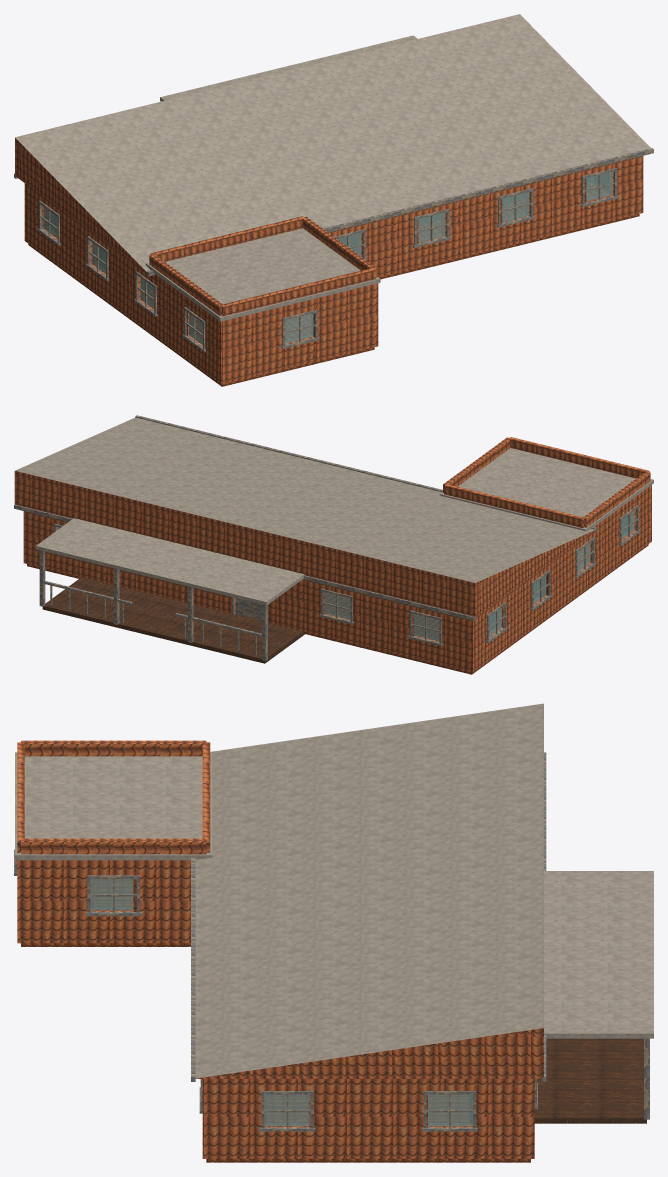
The model's file is longlight-house.gltf.
3 renders of one model, top to bottom at view 1: azimuth 30°, elevation 25°; view 2: azimuth 150°, elevation 25°; view 3: azimuth 270°, elevation 25°, orthographic. The views are drawn at different scales.
Visible parts, largest first — view 1: roof-L0-blue-metal, exterior-L0-wood, roof-L0-wood, trim-L0-dark-wood, glazing-L0-glass, floor-L0-floor, roof-L0-dark-wood, porch-L0-blue-metal; view 2: roof-L0-blue-metal, roof-L0-wood, exterior-L0-wood, porch-L0-blue-metal, porch-L0-stone, trim-L0-dark-wood, porch-L0-dark-wood, roof-L0-dark-wood, glazing-L0-glass, floor-L0-floor, door-leaf-L0-dark-wood; view 3: roof-L0-blue-metal, exterior-L0-wood, porch-L0-blue-metal, roof-L0-wood, porch-L0-stone, floor-L0-floor, glazing-L0-glass, trim-L0-dark-wood, roof-L0-dark-wood.
Part boxes in pixels (x1,y1,x2,y2): roof-L0-blue-metal: (15, 14, 650, 321); exterior-L0-wood: (24, 156, 643, 384); roof-L0-wood: (15, 138, 376, 316); trim-L0-dark-wood: (37, 168, 618, 352); glazing-L0-glass: (43, 171, 612, 344); floor-L0-floor: (28, 182, 639, 386); roof-L0-dark-wood: (14, 148, 653, 276); porch-L0-blue-metal: (160, 35, 417, 101); roof-L0-blue-metal: (15, 417, 653, 582); roof-L0-wood: (14, 437, 650, 617); exterior-L0-wood: (23, 485, 651, 672); porch-L0-blue-metal: (36, 518, 304, 605); porch-L0-stone: (42, 577, 304, 663); trim-L0-dark-wood: (53, 505, 640, 646); porch-L0-dark-wood: (39, 550, 267, 660); roof-L0-dark-wood: (14, 415, 597, 620); glazing-L0-glass: (57, 511, 634, 641); floor-L0-floor: (27, 544, 648, 674); door-leaf-L0-dark-wood: (235, 598, 261, 619); roof-L0-blue-metal: (15, 703, 543, 1078); exterior-L0-wood: (17, 860, 534, 1158); porch-L0-blue-metal: (544, 871, 653, 1038); roof-L0-wood: (17, 740, 543, 1078); porch-L0-stone: (534, 1038, 646, 1123); floor-L0-floor: (21, 880, 530, 1162); glazing-L0-glass: (90, 879, 472, 1125); trim-L0-dark-wood: (14, 849, 537, 1131); roof-L0-dark-wood: (191, 752, 546, 1081).
Size of the model in its own units: 16.56 by 3.34 by 13.8.
Materials: 8 (7 with a texture image).
